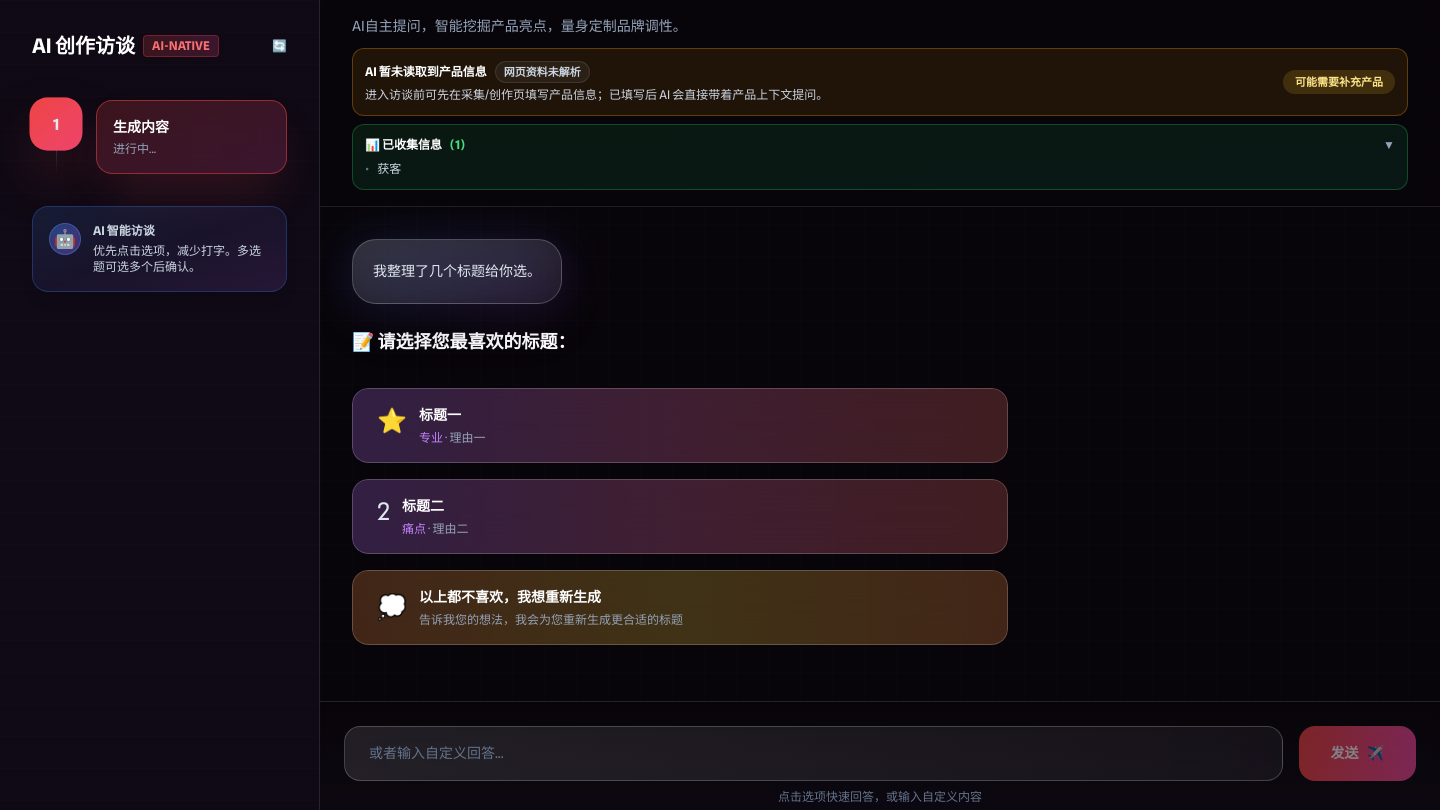
it: InterviewView › locks title submission locally to avoid duplicate requests
The width and height of the screenshot is (1440, 810).
Click the button "⭐ 标题一 专业 · 理由一" at (680, 425), box x1=352 y1=388 x2=1008 y2=463
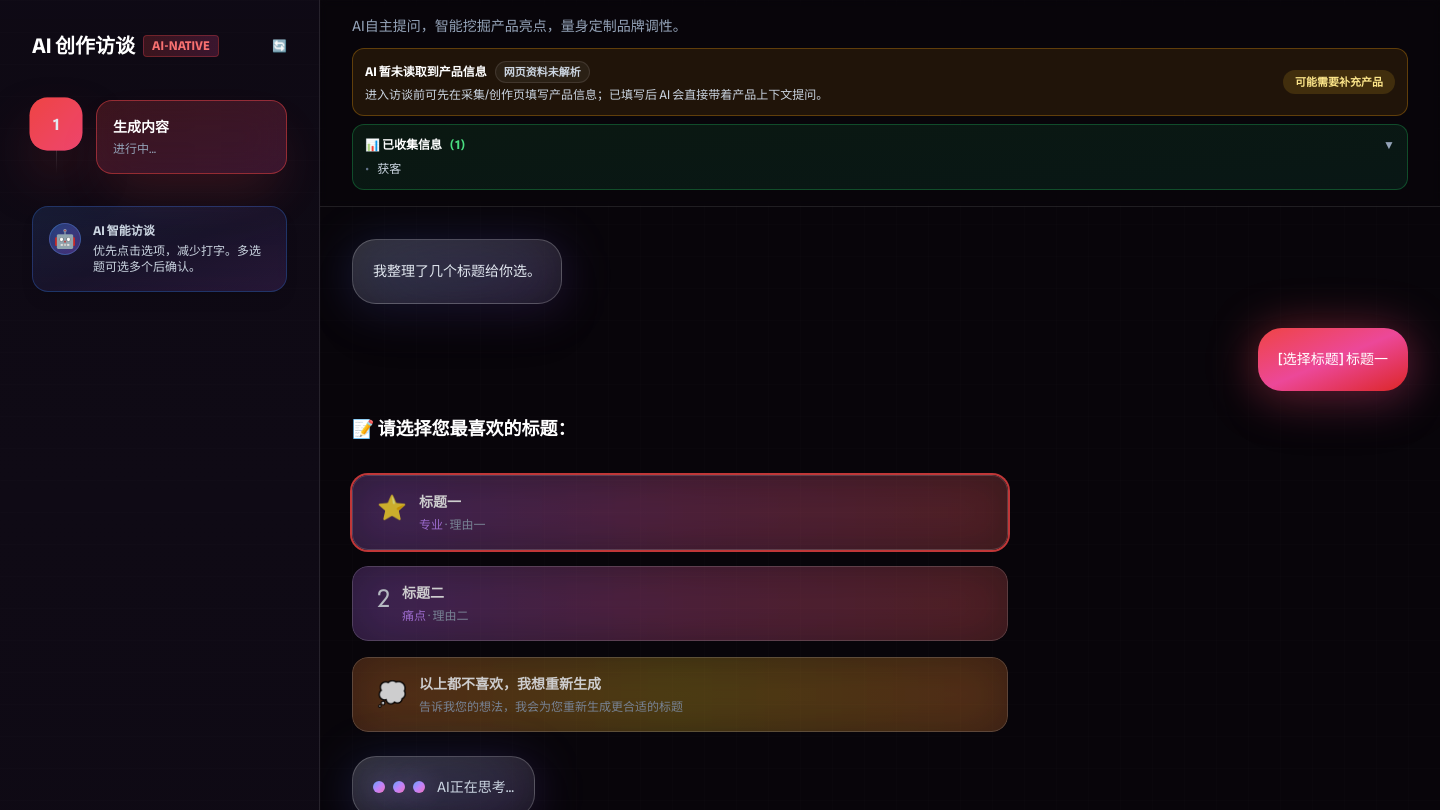
Click the button "⭐ 标题一 专业 · 理由一" at (680, 512), box x1=352 y1=474 x2=1008 y2=550
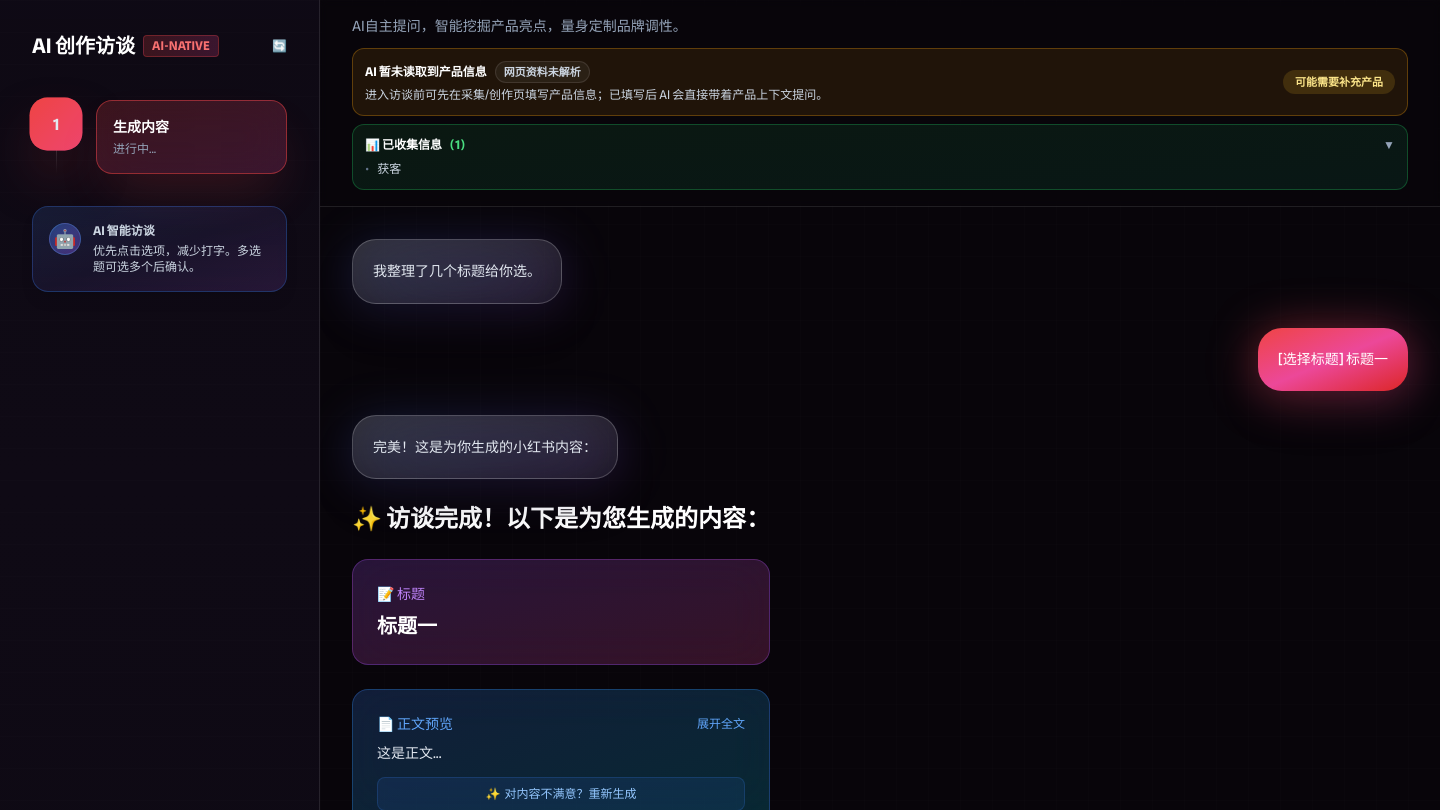
Now the text "完美！这是为你生成的小红书内容：" is shown, box x1=373 y1=436 x2=597 y2=458
